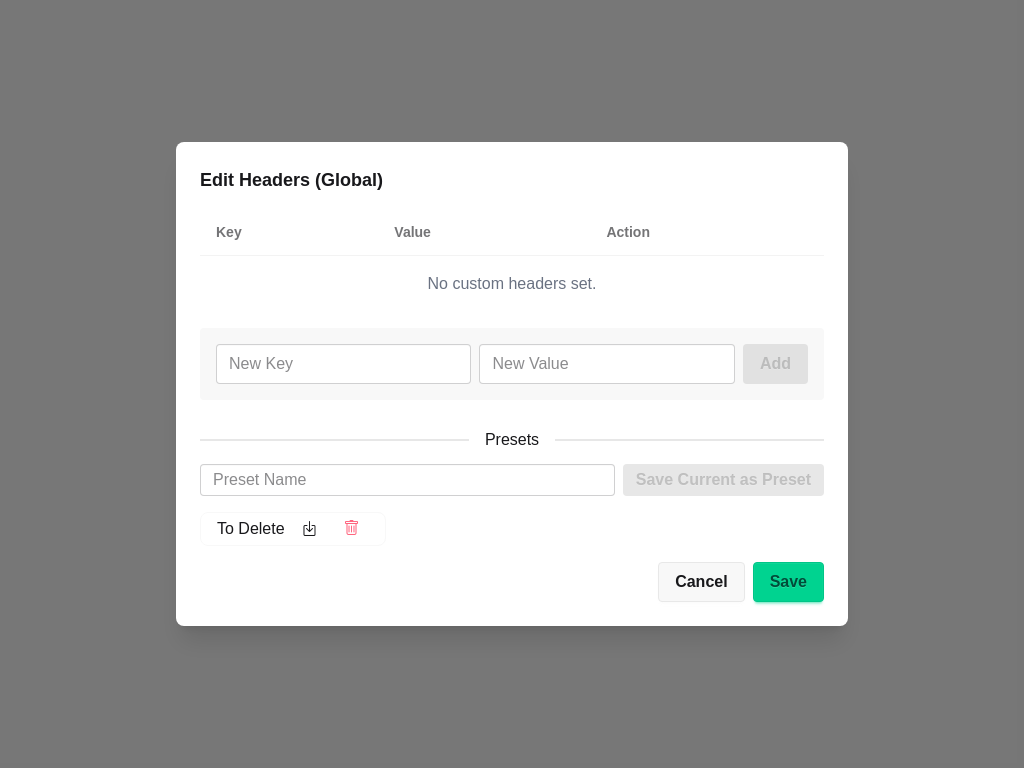
Scenario: HeadersEditor Component › should delete a preset
Expected: the text "To Delete" is shown, 200,512 -> 386,546
Click the button named "Delete preset".
click(352, 529)  # box 335,517 -> 369,541
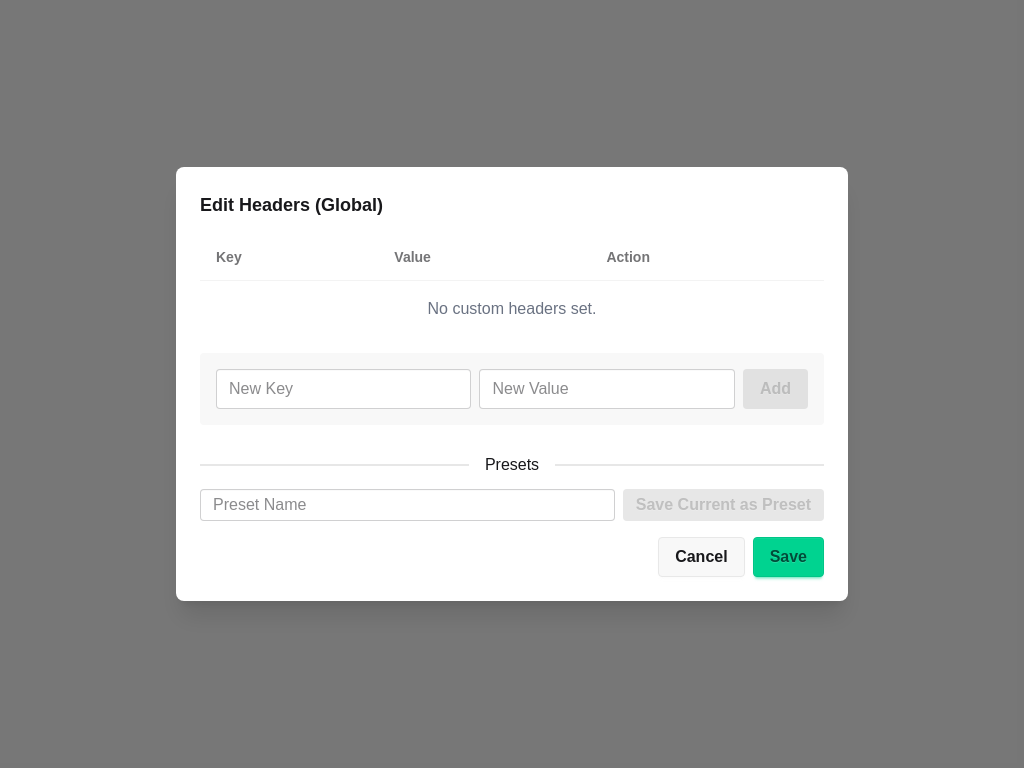
Expected: the text "To Delete" is gone
